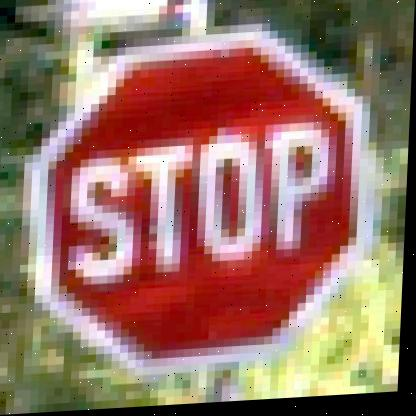Stop Sign: (28, 23, 376, 376)
